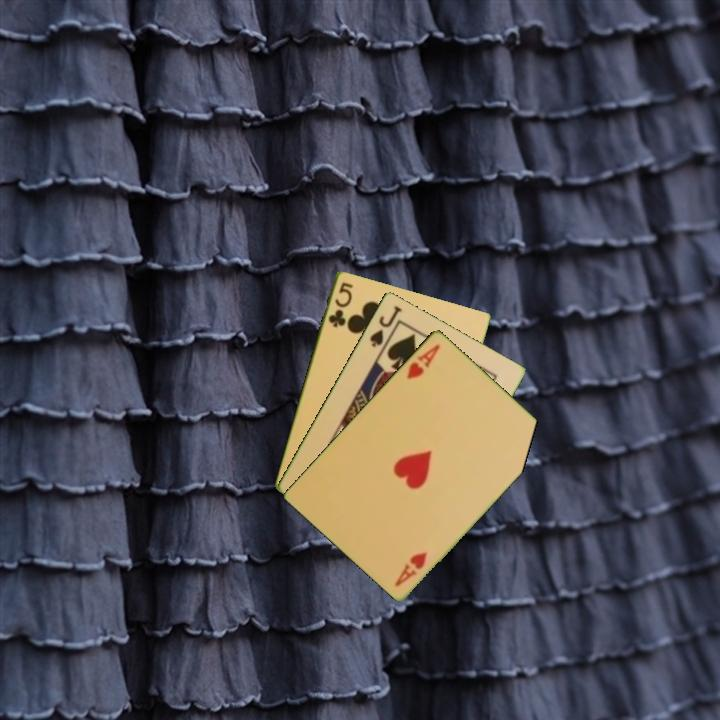5c: (325, 278, 356, 330)
Ah: (403, 340, 443, 382), (391, 547, 430, 589)
Js: (366, 302, 405, 350)
